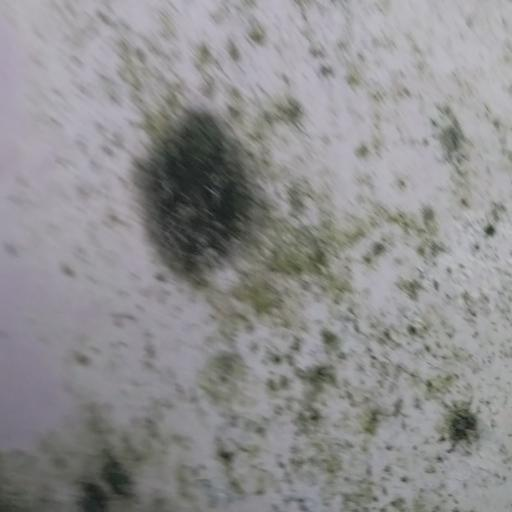algae: (108, 34, 512, 494)
